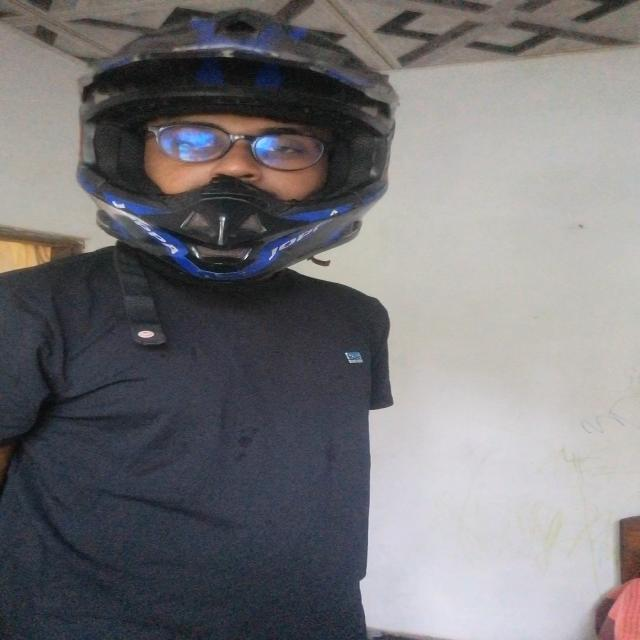Helmet_Wearer: (63, 15, 427, 314)
